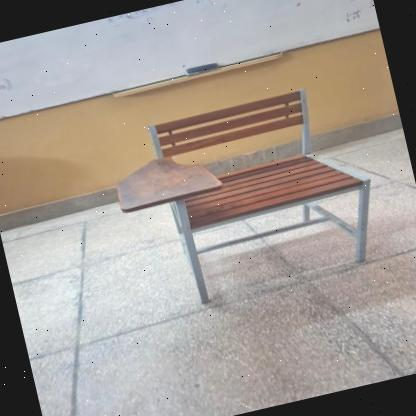chair: (95, 71, 398, 324)
